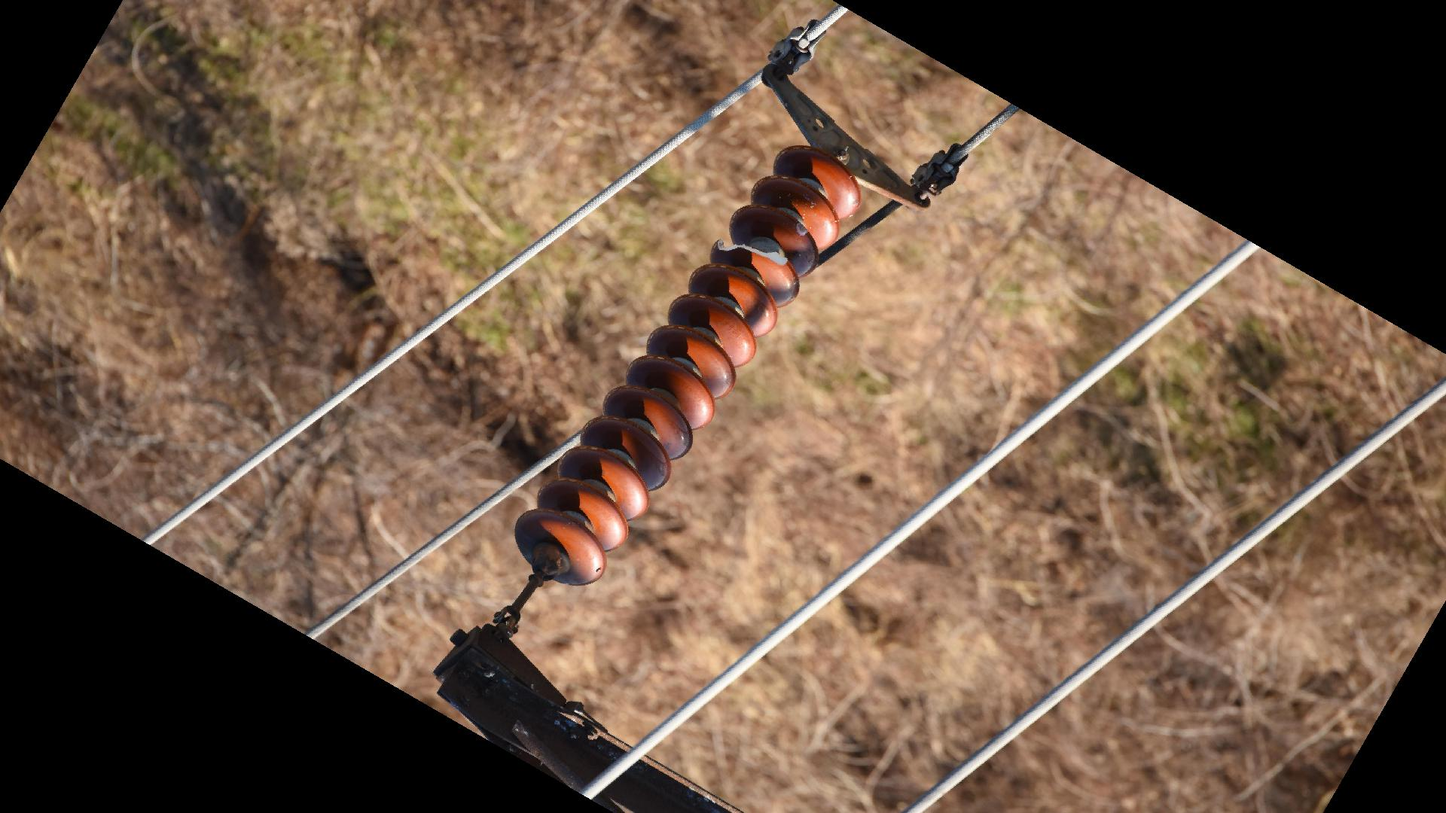insulator: (513, 139, 865, 590)
insulator_breakage: (709, 234, 792, 273)
